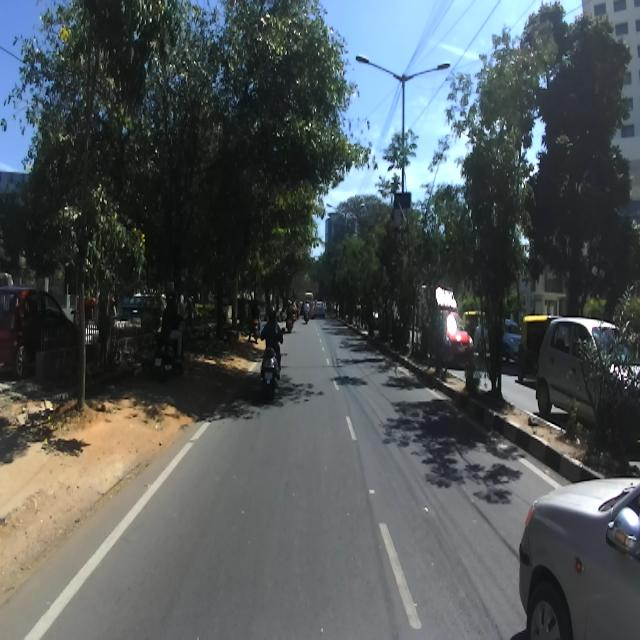motorcycle ahead at: (257, 340, 289, 400)
tree ahead at: (21, 0, 169, 412)
